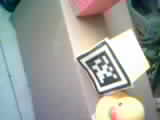duck: (90, 87, 149, 114)
